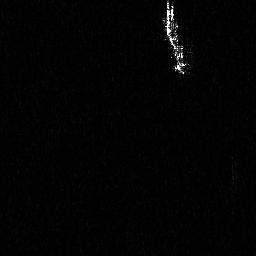ship: (162, 1, 189, 74)
